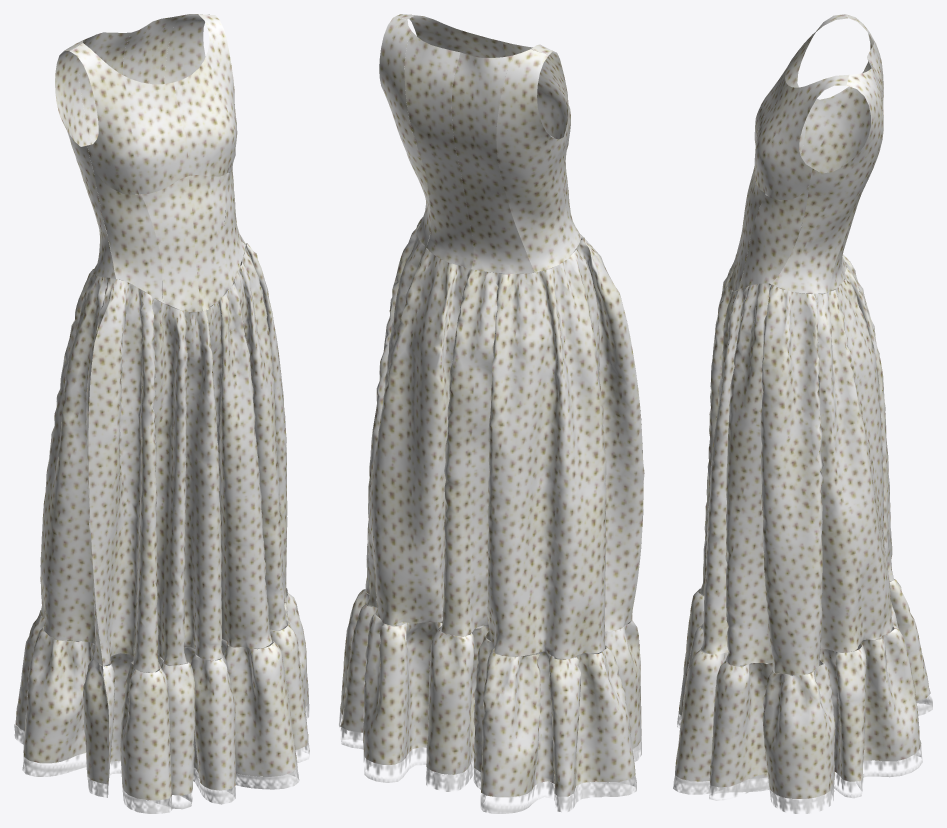
3 renders of one model, left to right at view 1: azimuth 30°, elevation 25°; view 2: azimuth 150°, elevation 25°; view 3: azimuth 270°, elevation 25°, orthographic. The views are drawn at different scales.
Parts seen in each view (by area): view 1: CB; view 2: CB; view 3: CB.
Part boxes in pixels (box(x1,y1,x2,y2)): CB: box(14, 14, 309, 813); CB: box(339, 14, 644, 813); CB: box(673, 14, 932, 813).
Size of what is drawn, in the model's own units: 0.5556 by 1.36 by 0.4481.
Materials: 2 (2 with a texture image).
